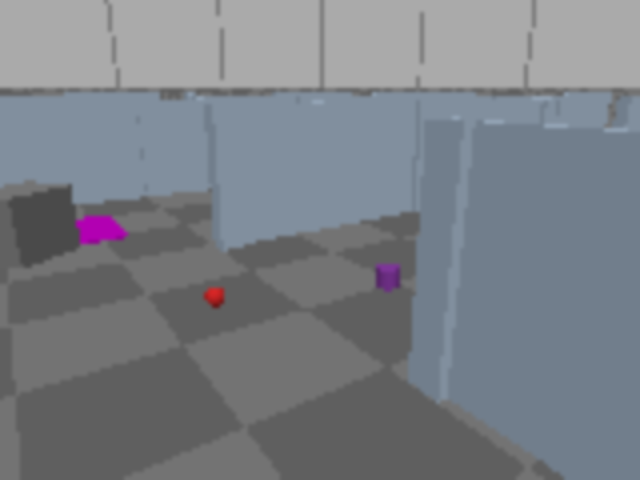puck: (200, 281, 230, 312), (377, 263, 398, 290)
